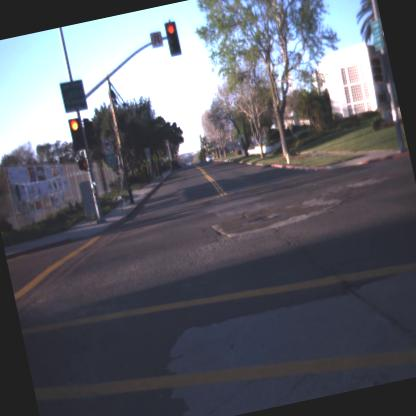trafficlight: (160, 18, 186, 62), (66, 114, 89, 157)
